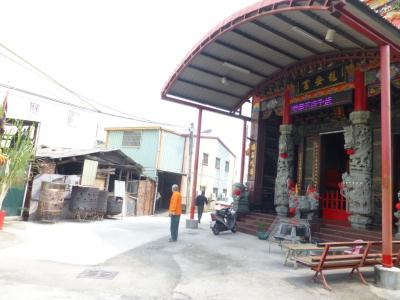bucket: (35, 181, 69, 221), (67, 183, 100, 222), (104, 192, 125, 219)
